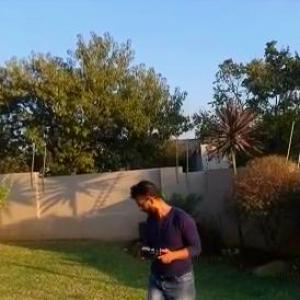follow: (127, 176, 207, 299)
